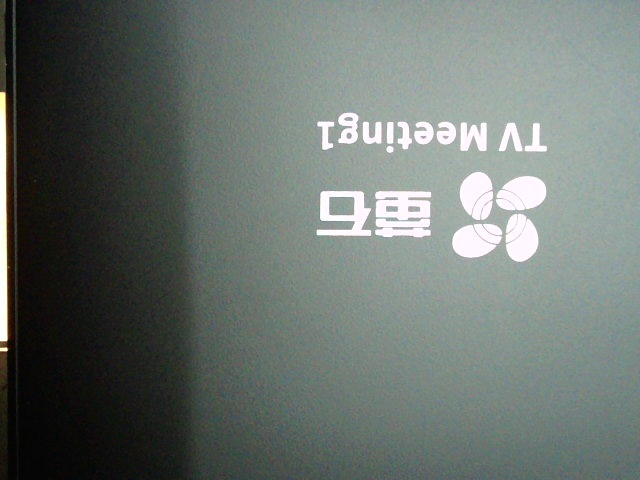BA_Yingshi: (314, 111, 548, 263)
